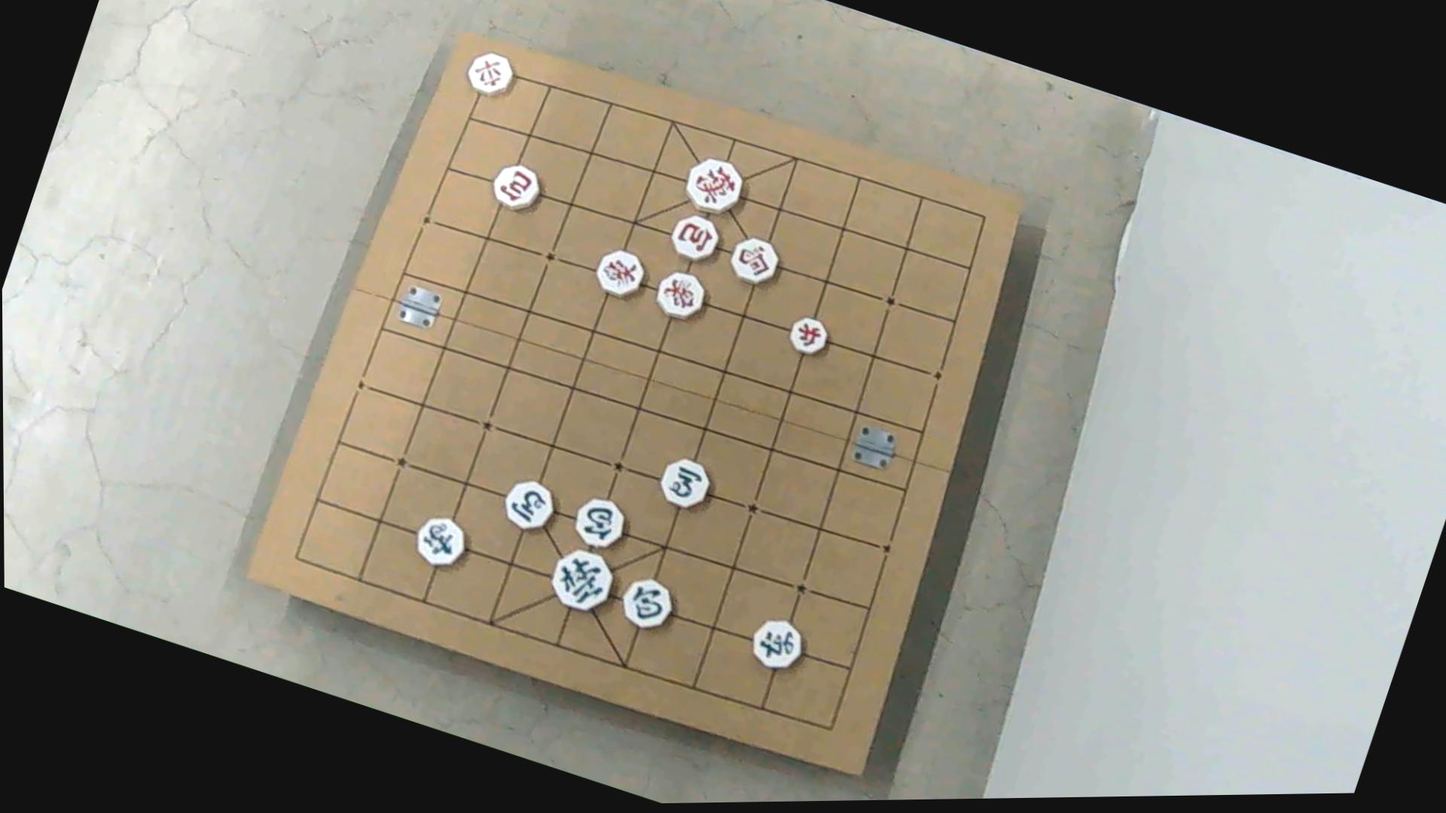cha_green: (743, 613, 805, 675)
cha_red: (460, 47, 514, 101)
jol_red: (786, 315, 834, 362)
ma_green: (496, 476, 557, 537), (654, 452, 713, 512)
ma_red: (726, 233, 785, 291)
po_green: (615, 574, 677, 636), (568, 491, 630, 553)
po_red: (485, 156, 543, 213), (668, 211, 725, 267)
sang_green: (408, 510, 469, 571)
sang_red: (590, 245, 648, 303), (651, 266, 709, 324)
wang_green: (545, 543, 620, 618)
wang_red: (680, 153, 749, 221)
